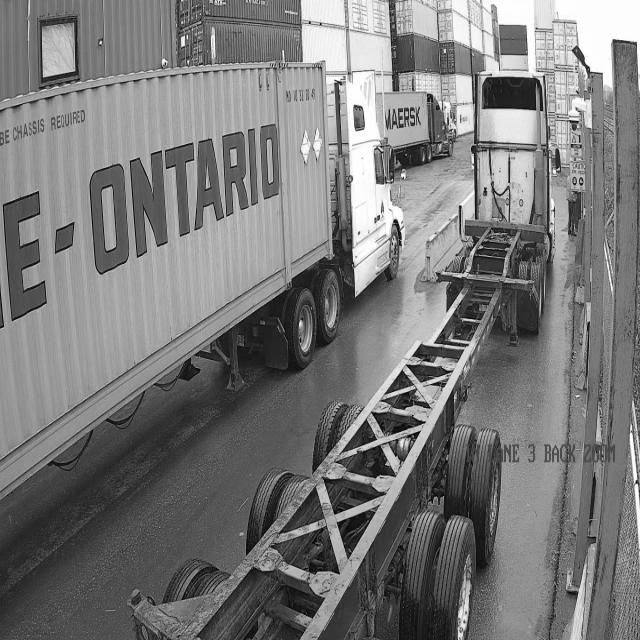container_company_logo: (129, 125, 279, 256)
driver: (566, 176, 578, 235)
truck_with_container: (0, 60, 406, 498), (376, 92, 454, 165)
truck_without_container: (130, 71, 555, 639)
